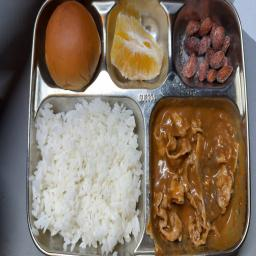100_beef: (151, 103, 238, 239)
100_bread: (42, 4, 101, 88)
100_nuts: (176, 8, 236, 85)
100_orange: (112, 9, 166, 86)
100_rice: (36, 101, 142, 246)
